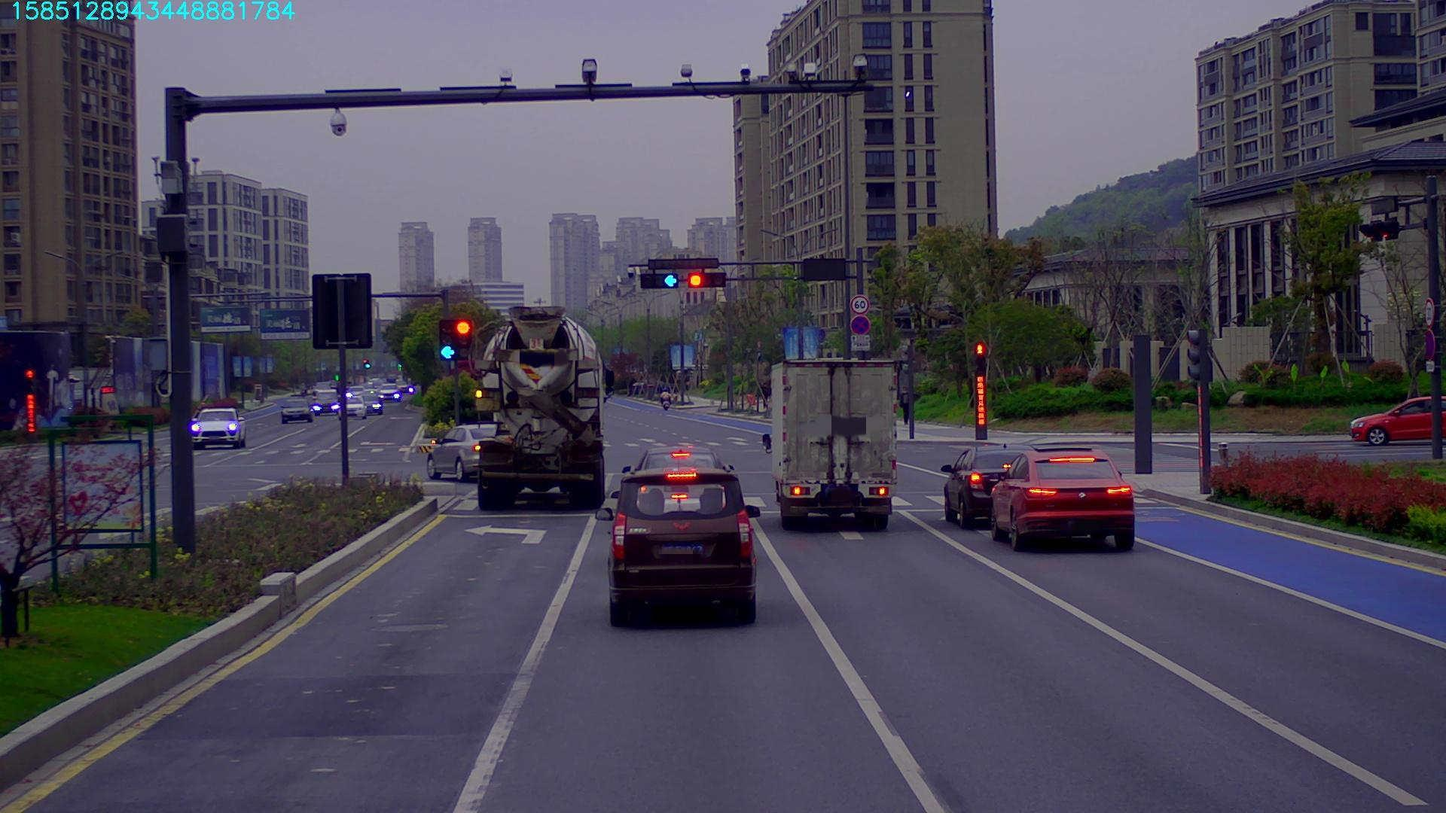green: (642, 273, 679, 288)
red: (691, 271, 727, 288)
